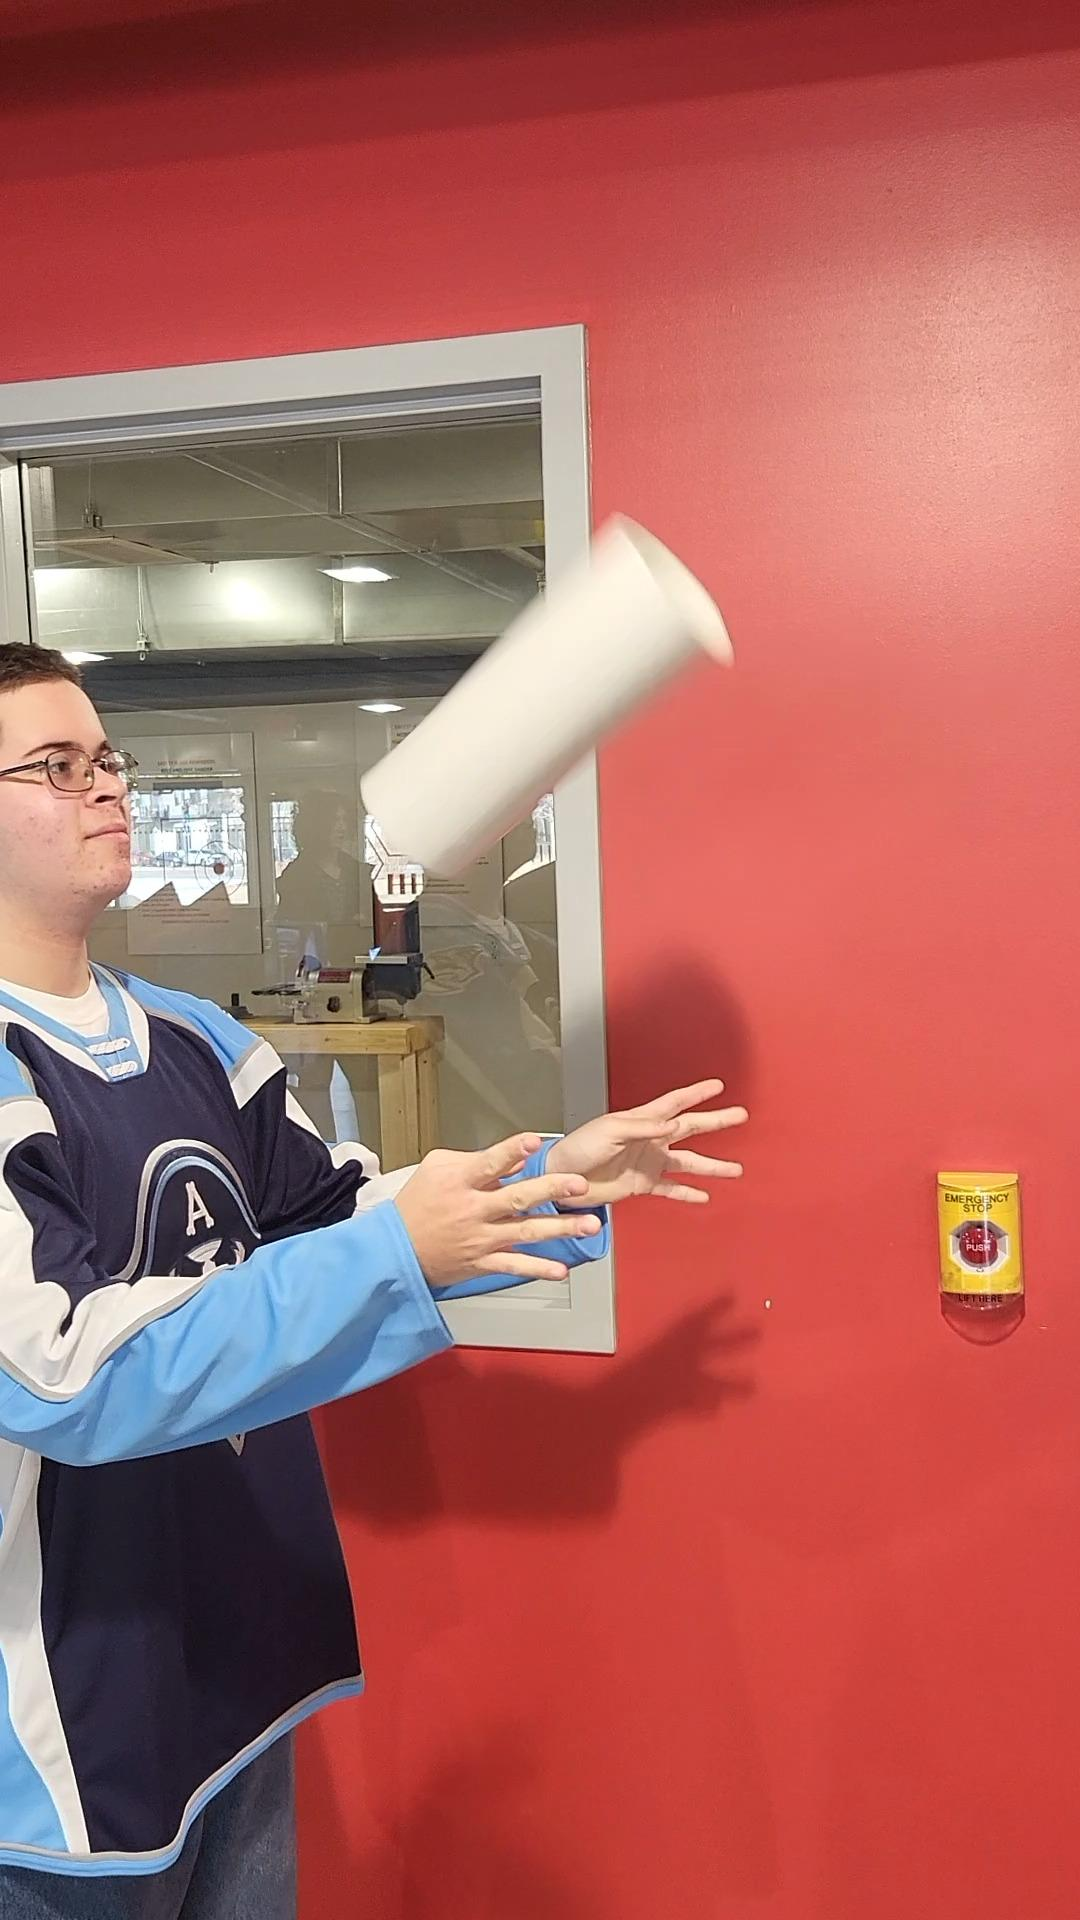coral: (371, 491, 740, 890)
